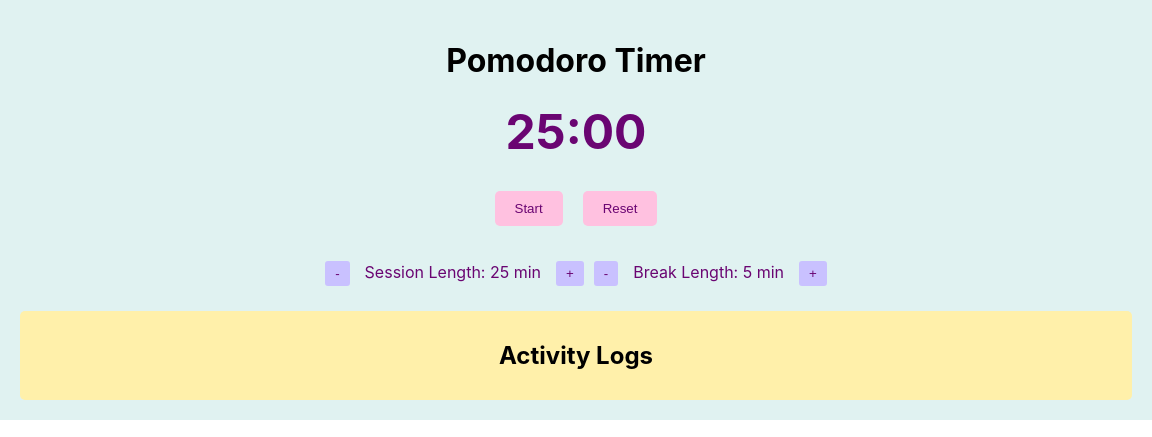
Test case: <App /> tests › adjusts the break length
Click the button with test id "break-increment" at (813, 273), box top-left (799, 261), bottom-right (827, 286)
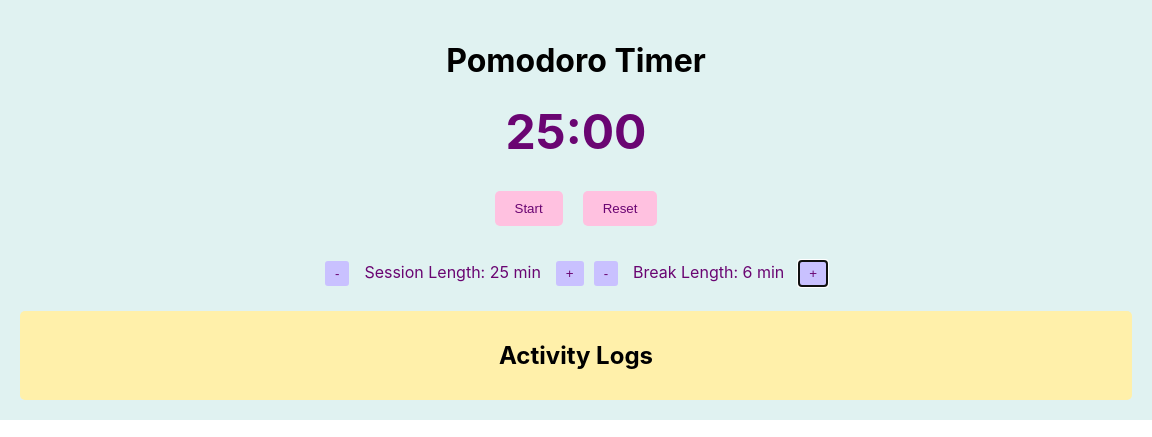
Expected: the text "Break Length: 6 min" is shown, top-left (633, 262), bottom-right (784, 282)
Click the button with test id "break-decrement" at (606, 273), box top-left (594, 261), bottom-right (618, 286)
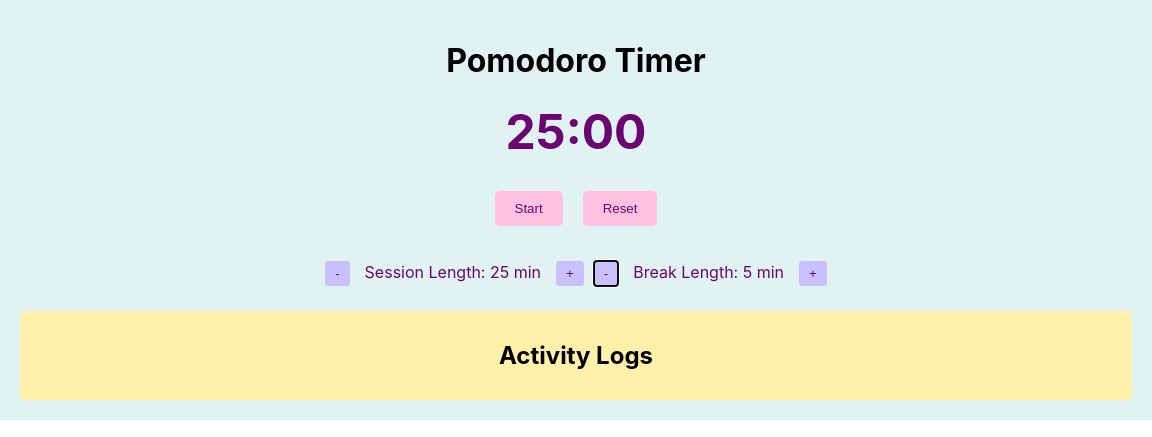
Expected: the text "Break Length: 5 min" is shown, top-left (633, 262), bottom-right (784, 282)
